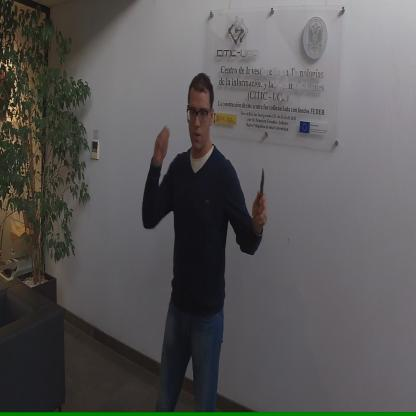knife: (257, 162, 268, 235)
